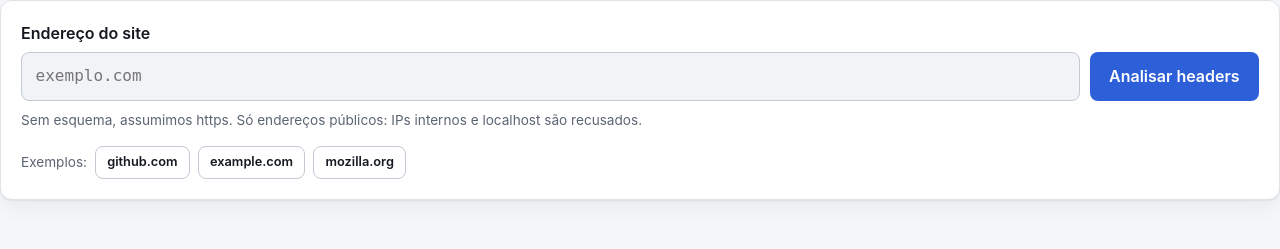
ScanForm › rejects localhost before it ever reaches the API
In the field labelled "Endereço do site": [551, 77] box [21,52,1080,101], type "localhost"
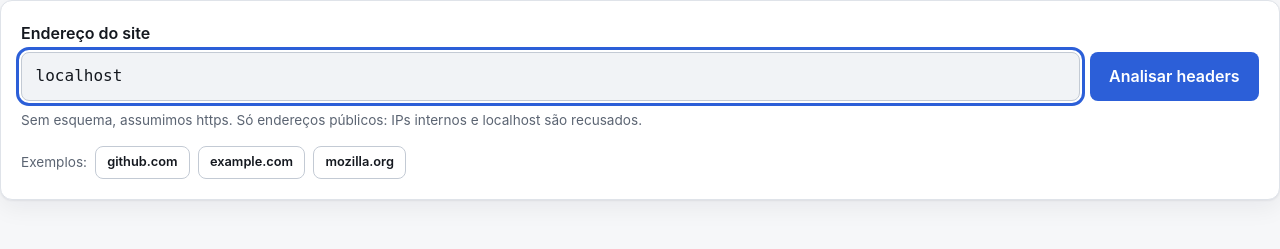
Click the button "Analisar headers": [1174, 77] box [1090,52,1259,101]
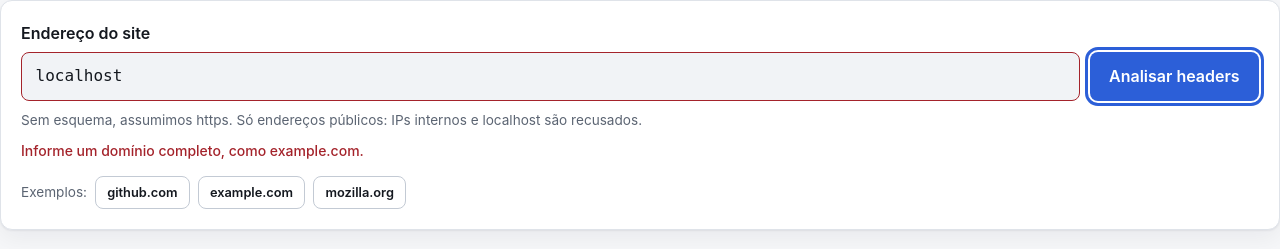
Check: the text "Informe um domínio completo, como example.com." is shown, box [21,142,364,159]
